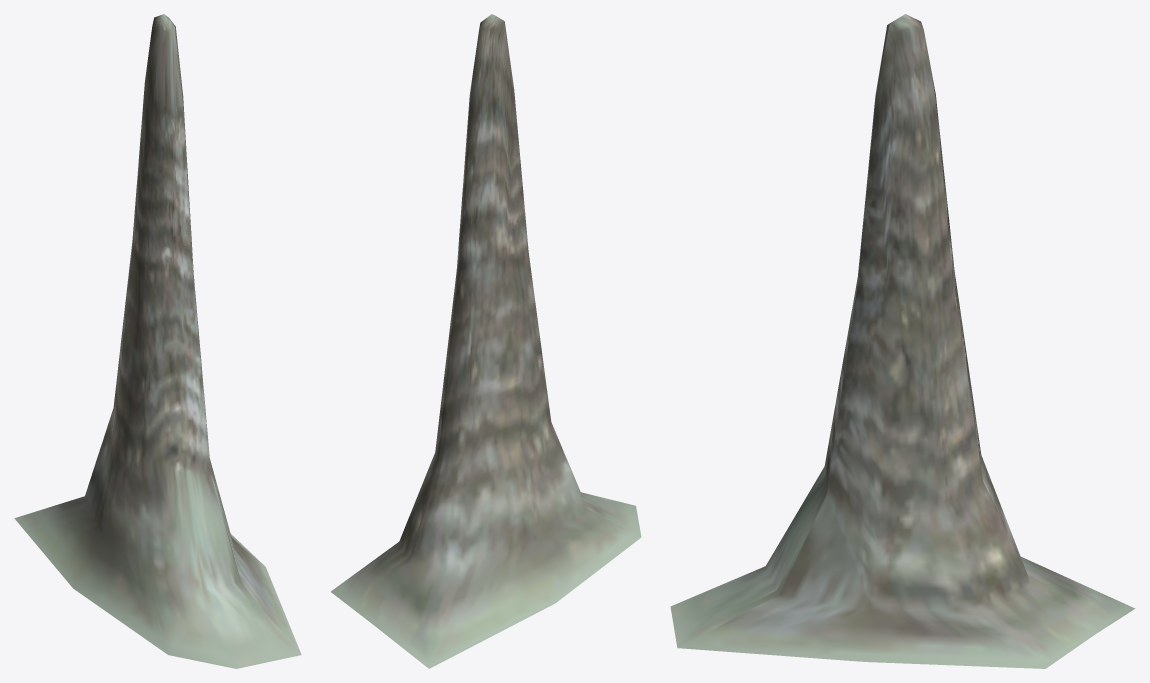
The model's file is TROLLHOLE02_PS-MAINSTALAG02.fbx.
3 renders of one model, left to right at view 1: azimuth 30°, elevation 25°; view 2: azimuth 150°, elevation 25°; view 3: azimuth 270°, elevation 25°, orthographic. The views are drawn at different scales.
Parts seen in each view (by area): view 1: TROLLHOLE02_PS-MAINSTALAG02; view 2: TROLLHOLE02_PS-MAINSTALAG02; view 3: TROLLHOLE02_PS-MAINSTALAG02.
Boxes of the visible parts, x1=… form: TROLLHOLE02_PS-MAINSTALAG02: x1=14, y1=14, x2=301, y2=668; TROLLHOLE02_PS-MAINSTALAG02: x1=331, y1=14, x2=641, y2=668; TROLLHOLE02_PS-MAINSTALAG02: x1=670, y1=14, x2=1135, y2=668.
Bounding box in the file's own units: 11035 × 34401 × 23484.
1 material, 1 textured.
